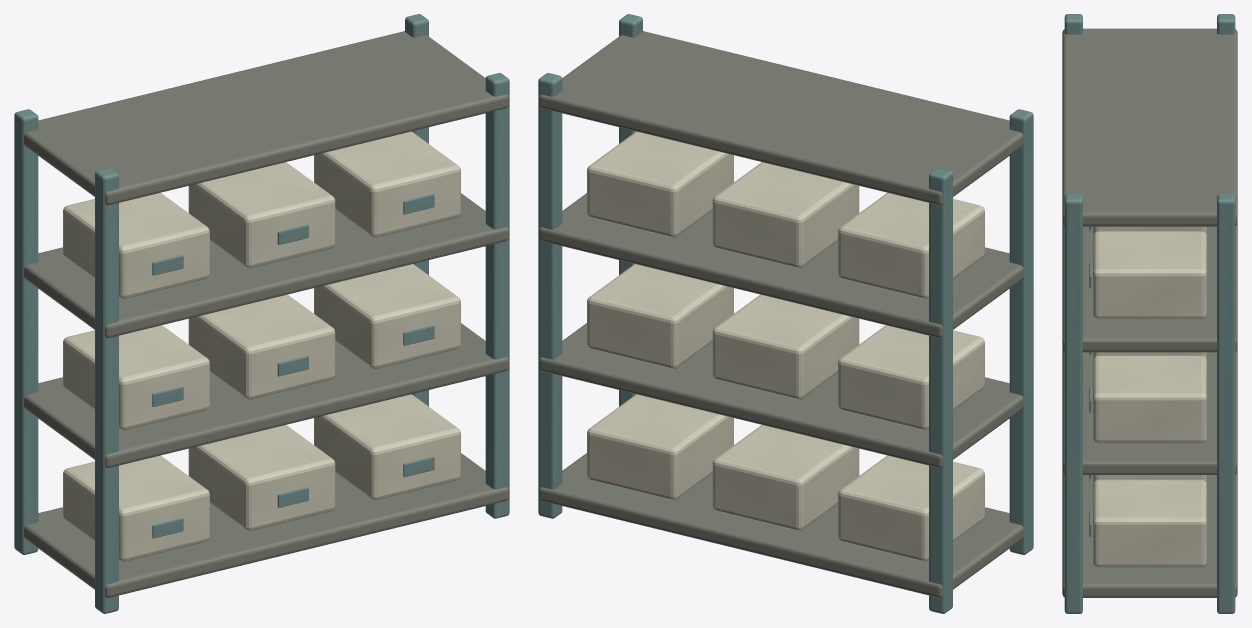
Rendered from Parts_Rack.glb.
3 views of the same model, side by side, from view 1: azimuth 30°, elevation 25°; view 2: azimuth 150°, elevation 25°; view 3: azimuth 270°, elevation 25° (orthographic). The views are drawn at different scales.
Parts seen in each view (by area): view 1: Parts_Rack; view 2: Parts_Rack; view 3: Parts_Rack.
Boxes of the visible parts, bbox=[...] form: Parts_Rack: bbox=[14, 14, 509, 613]; Parts_Rack: bbox=[538, 14, 1033, 613]; Parts_Rack: bbox=[1062, 14, 1237, 613].
Bounding box in the file's own units: 2.92 × 3 × 1.15.
Materials: 3 (2 with a texture image).
